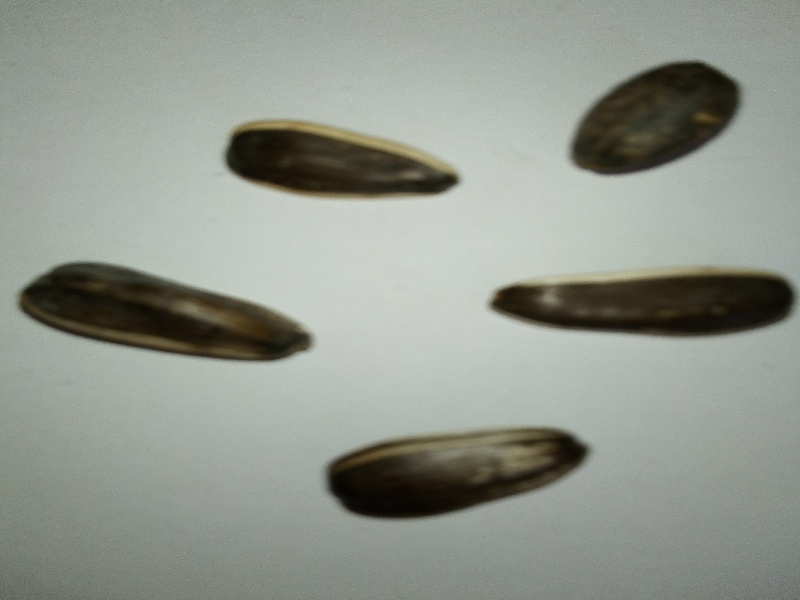girasol: (13, 250, 322, 375), (319, 407, 604, 535), (483, 258, 800, 348), (566, 45, 749, 197), (211, 115, 469, 203)
